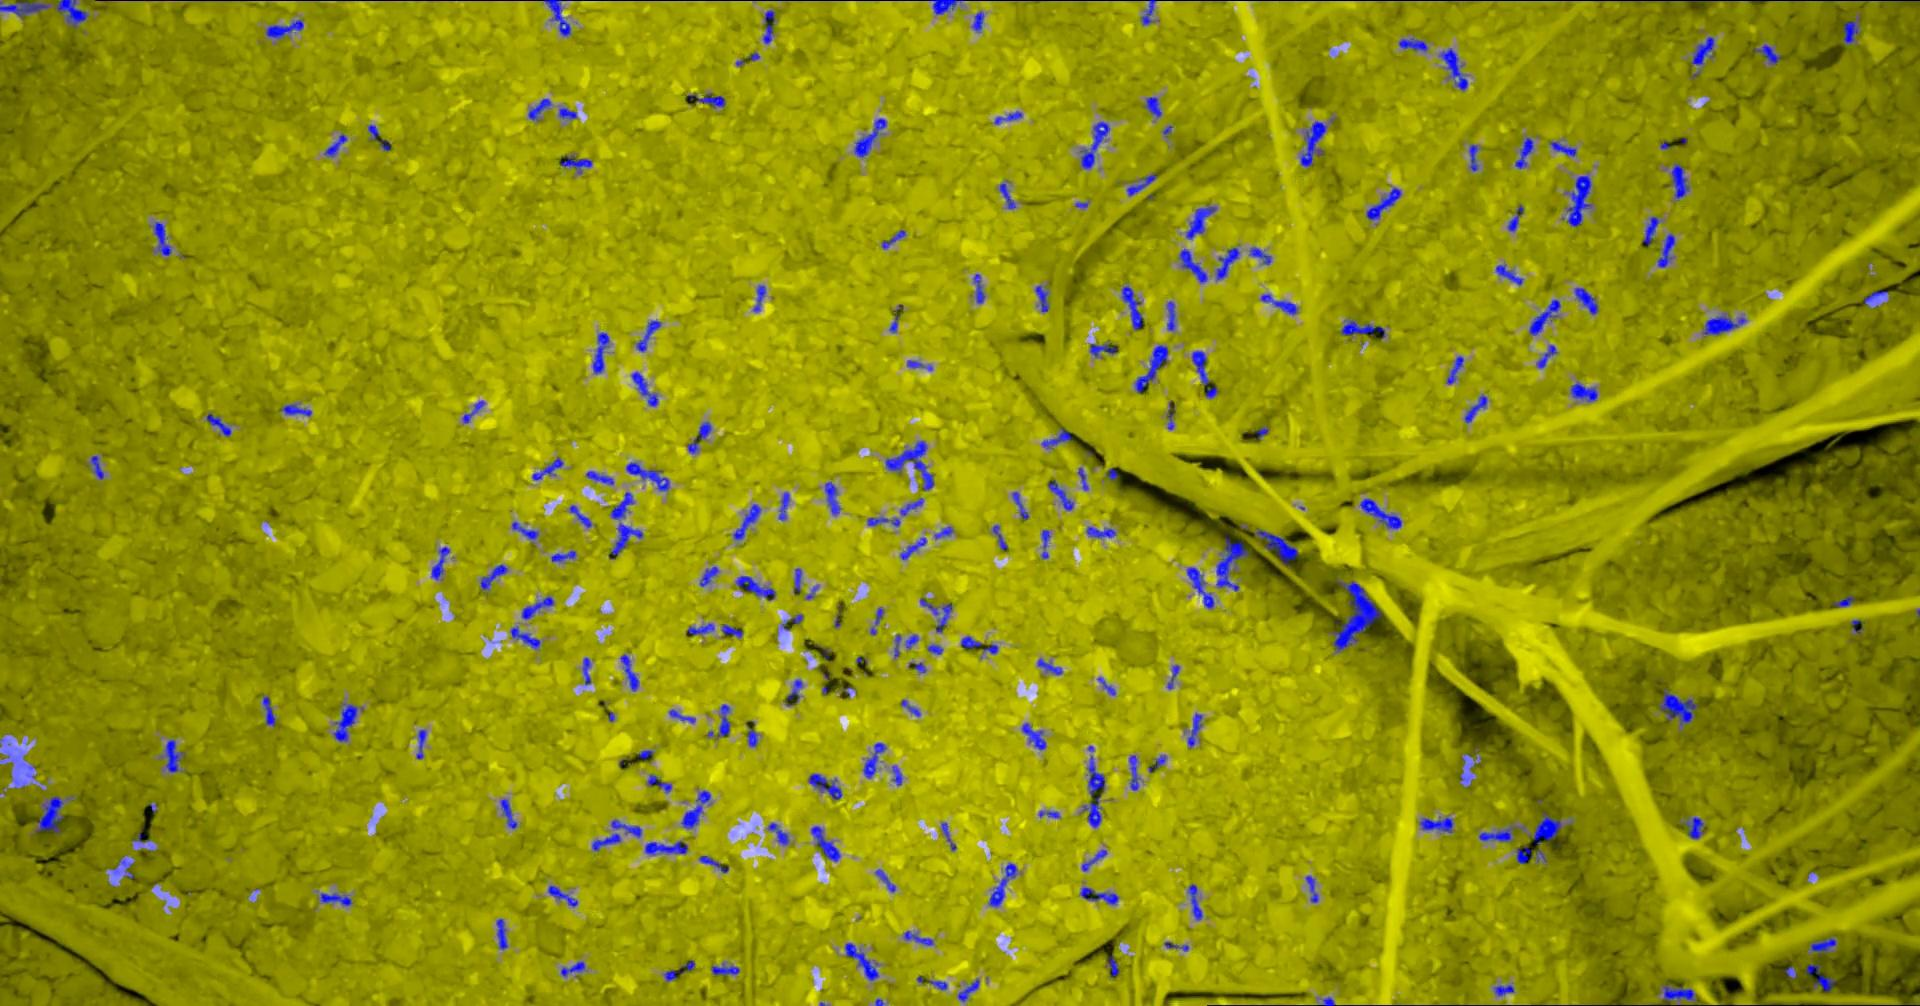ant: (885, 439, 933, 490), (610, 492, 643, 558), (1217, 535, 1248, 589), (1134, 344, 1168, 392), (1253, 528, 1297, 565), (590, 819, 641, 850), (1082, 756, 1103, 827), (1658, 687, 1697, 725), (1079, 121, 1109, 168), (853, 118, 886, 158), (625, 462, 669, 492), (1566, 175, 1591, 226), (1359, 498, 1401, 528), (988, 862, 1017, 906), (844, 942, 877, 981), (1439, 47, 1467, 90), (1191, 351, 1217, 398), (1300, 121, 1326, 166), (1529, 298, 1559, 335), (1186, 567, 1213, 608), (333, 702, 362, 741), (681, 790, 710, 828), (810, 826, 841, 861), (1366, 187, 1399, 218), (1185, 206, 1217, 239), (36, 796, 63, 833), (1178, 248, 1208, 282), (731, 504, 759, 539), (735, 575, 775, 600), (543, 0, 570, 36), (631, 371, 658, 406), (1121, 285, 1142, 329), (1804, 962, 1835, 991), (1531, 812, 1559, 843), (1702, 315, 1746, 334), (862, 742, 885, 779), (55, 0, 88, 25), (808, 774, 841, 799), (0, 0, 48, 17), (687, 420, 711, 453), (1340, 320, 1384, 338), (636, 320, 662, 351), (1048, 480, 1073, 511), (521, 594, 552, 619), (705, 704, 729, 735), (1217, 246, 1239, 279), (1260, 293, 1297, 314), (592, 332, 610, 373), (1689, 36, 1714, 65), (265, 19, 303, 38), (531, 457, 563, 479), (663, 959, 695, 981), (480, 564, 507, 589), (618, 654, 637, 690), (1079, 887, 1117, 904), (1126, 173, 1156, 196), (152, 221, 171, 255), (1021, 723, 1045, 749), (1464, 395, 1487, 423), (1041, 427, 1070, 448), (510, 626, 540, 648), (430, 546, 450, 579), (165, 739, 184, 772), (367, 124, 390, 151), (1575, 287, 1597, 314), (644, 840, 687, 854), (547, 885, 577, 906), (1671, 163, 1688, 198), (687, 91, 725, 107), (1514, 137, 1533, 168), (1081, 848, 1106, 871), (899, 537, 926, 559), (1495, 264, 1523, 285), (1657, 232, 1674, 267), (1662, 984, 1697, 1001), (559, 155, 590, 173), (1752, 44, 1782, 64), (206, 413, 230, 436), (824, 481, 841, 514), (1418, 815, 1451, 832), (1187, 884, 1203, 920), (1570, 382, 1597, 401), (323, 133, 345, 156), (1187, 713, 1203, 747), (527, 98, 551, 119), (1641, 216, 1658, 245), (1516, 845, 1545, 862), (698, 855, 728, 873), (510, 521, 538, 539), (957, 978, 979, 1001), (1446, 354, 1463, 384), (935, 603, 951, 633), (930, 0, 964, 14), (1478, 827, 1512, 841), (462, 400, 484, 422), (569, 506, 590, 527), (767, 822, 789, 843), (500, 798, 516, 828), (875, 869, 895, 892), (903, 930, 933, 945), (1843, 17, 1859, 44), (1012, 492, 1029, 520), (881, 229, 905, 248), (785, 680, 803, 705), (1537, 344, 1556, 367), (648, 774, 670, 793), (1684, 815, 1703, 838), (888, 304, 903, 332), (262, 695, 276, 725), (941, 822, 956, 850), (762, 10, 775, 43), (1398, 37, 1427, 51), (993, 111, 1022, 124), (1549, 141, 1576, 156), (1507, 205, 1523, 231), (900, 497, 923, 514), (1128, 754, 1139, 790), (1810, 937, 1836, 953), (279, 403, 311, 415), (320, 892, 352, 904), (1037, 658, 1062, 674), (1090, 343, 1117, 357), (585, 470, 613, 484), (711, 962, 739, 976), (999, 183, 1015, 208), (992, 525, 1007, 550), (1250, 246, 1271, 264), (698, 567, 717, 586), (1863, 290, 1888, 304), (686, 622, 714, 635), (973, 273, 984, 304), (1084, 526, 1115, 537), (752, 285, 764, 311), (1035, 285, 1048, 311), (900, 699, 919, 716), (668, 709, 695, 721), (117, 859, 135, 878), (1305, 875, 1318, 902), (1142, 0, 1156, 24), (560, 962, 584, 976), (1144, 97, 1161, 117), (867, 516, 899, 526), (1097, 677, 1115, 695), (919, 597, 938, 614), (497, 918, 507, 949), (90, 455, 103, 479), (1148, 754, 1164, 772), (1468, 144, 1478, 171), (778, 492, 789, 520), (721, 622, 742, 636), (551, 550, 575, 561), (1167, 664, 1178, 688), (905, 359, 932, 370), (417, 729, 425, 760), (1077, 467, 1088, 490), (1166, 301, 1175, 330), (1041, 528, 1050, 558), (1832, 594, 1853, 607), (960, 636, 982, 648), (1106, 955, 1117, 977), (557, 107, 577, 119), (582, 657, 590, 683), (935, 526, 952, 539), (971, 11, 983, 30), (745, 727, 757, 746), (792, 568, 801, 592), (1164, 941, 1189, 950), (1167, 401, 1175, 429), (891, 765, 902, 785), (1493, 984, 1512, 995), (928, 979, 946, 989), (905, 634, 918, 648), (927, 644, 942, 654), (1037, 810, 1059, 817)
